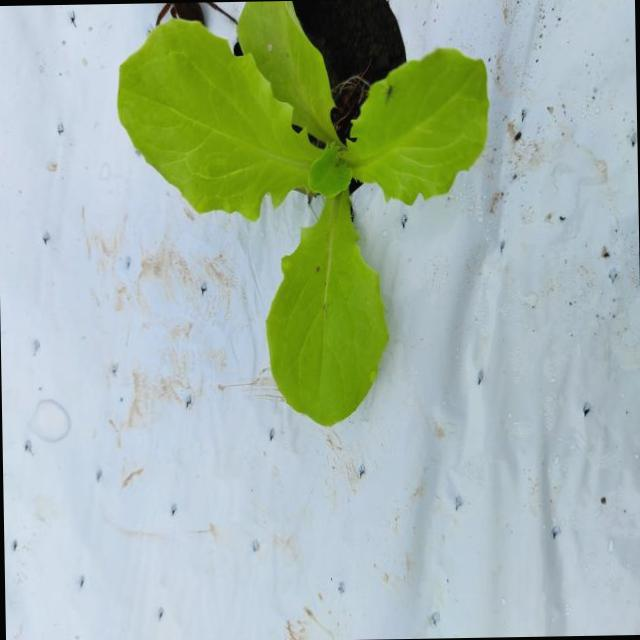Lettuce-Not-Ready-to-Harvest: (117, 0, 488, 423)
